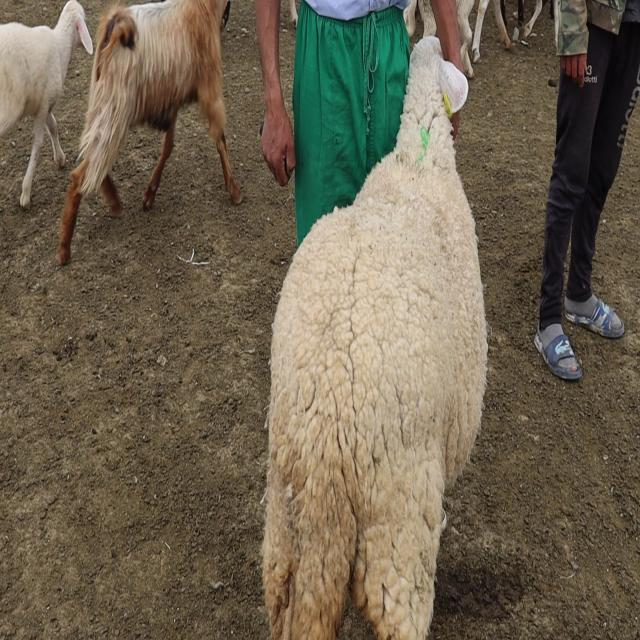Score_4: (262, 36, 488, 639)
